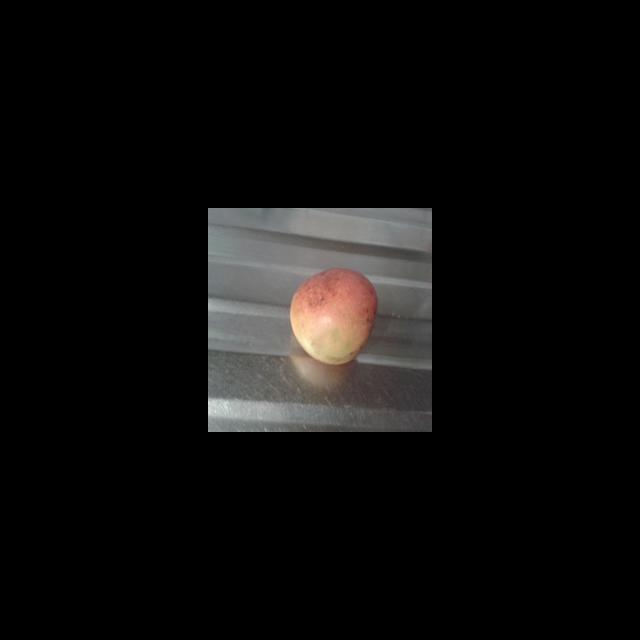Mango: (289, 267, 377, 365)
